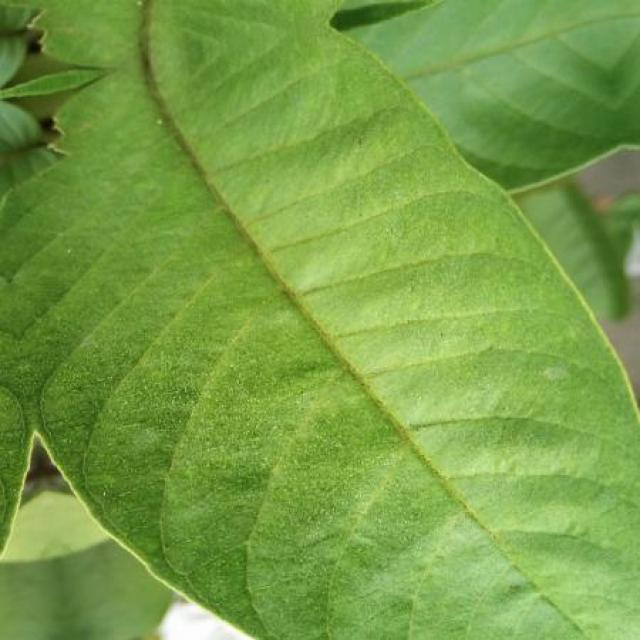Disease Free: (0, 0, 640, 640)
